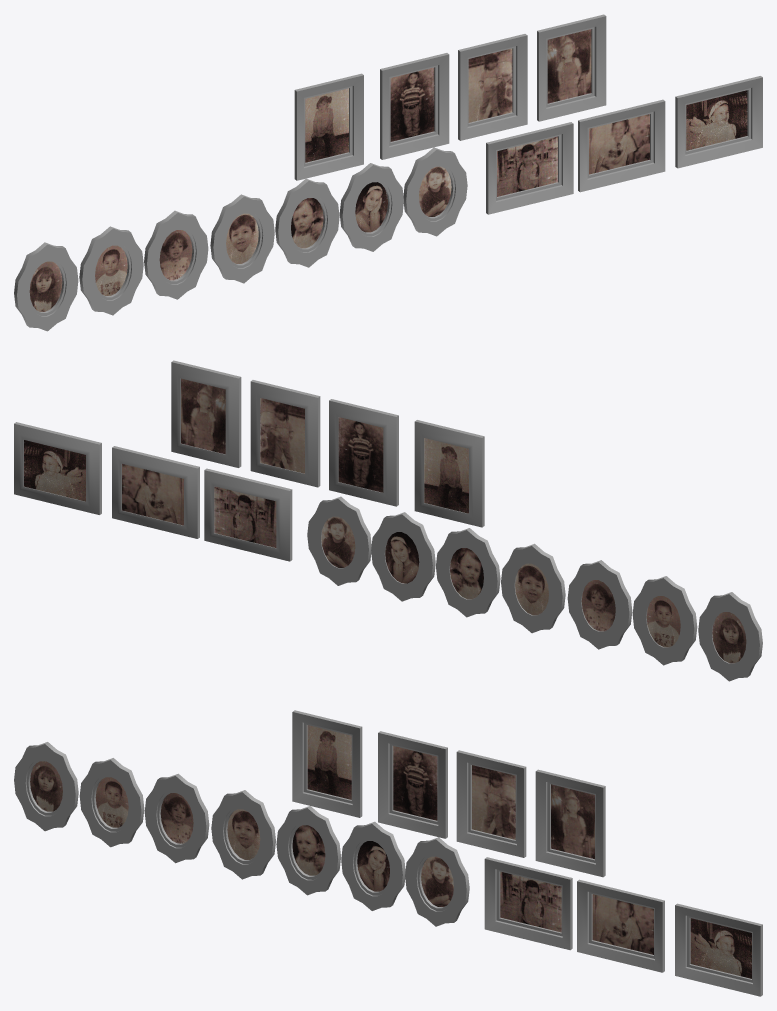
The model's file is Cuadros_Antiguos_001.fbx.
The picture shows the model from 3 angles, top to bottom: view 1: azimuth 30°, elevation 25°; view 2: azimuth 150°, elevation 25°; view 3: azimuth 330°, elevation 25°; orthographic projection.
Parts seen in each view (by area): view 1: Cuadro_Sergio, Cuadro_Polanco, Cuadro_Allison, Cuadro_Wilmer, Cuadro_Andres, Cuadro_Paola, Cuadro_Daniel, Cuadro_Instru, Cuadro_Camila, Cuadro_Maira, Cuadro_Rodrigo, Cuadro_Fabian (+2 smaller); view 2: Cuadro_Polanco, Cuadro_Sergio, Cuadro_Allison, Cuadro_Andres, Cuadro_Wilmer, Cuadro_Paola, Cuadro_Daniel, Cuadro_Johan, Cuadro_Fabian, Cuadro_Camila, Cuadro_Instru, Cuadro_Rodrigo (+2 smaller); view 3: Cuadro_Sergio, Cuadro_Polanco, Cuadro_Allison, Cuadro_Andres, Cuadro_Wilmer, Cuadro_Daniel, Cuadro_Paola, Cuadro_Fabian, Cuadro_Kathia, Cuadro_Instru, Cuadro_Maira, Cuadro_Rodrigo (+2 smaller).
Part boxes in pixels (x1,y1,x2,y2): Cuadro_Sergio: (537,14,606,121); Cuadro_Polanco: (458,34,527,140); Cuadro_Allison: (294,73,363,180); Cuadro_Wilmer: (380,53,449,159); Cuadro_Andres: (486,122,573,214); Cuadro_Paola: (578,99,665,192); Cuadro_Daniel: (675,76,762,168); Cuadro_Instru: (275,178,339,267); Cuadro_Camila: (339,163,403,251); Cuadro_Maira: (144,210,208,299); Cuadro_Rodrigo: (79,226,143,315); Cuadro_Fabian: (403,147,467,236); Cuadro_Polanco: (250,380,320,487); Cuadro_Sergio: (171,360,241,467); Cuadro_Allison: (414,420,484,527); Cuadro_Andres: (204,468,292,561); Cuadro_Wilmer: (329,399,398,506); Cuadro_Paola: (112,446,199,538); Cuadro_Daniel: (14,422,101,514); Cuadro_Johan: (501,543,565,633); Cuadro_Fabian: (307,496,371,585); Cuadro_Camila: (371,512,435,601); Cuadro_Instru: (436,528,500,617); Cuadro_Rodrigo: (632,576,697,665); Cuadro_Sergio: (535,769,605,877); Cuadro_Polanco: (456,750,526,857); Cuadro_Allison: (292,710,362,817); Cuadro_Andres: (484,857,572,950); Cuadro_Wilmer: (378,731,447,838); Cuadro_Daniel: (675,903,762,996); Cuadro_Paola: (577,879,664,972); Cuadro_Fabian: (405,837,469,926); Cuadro_Kathia: (14,742,78,831); Cuadro_Instru: (276,806,340,895); Cuadro_Maira: (144,773,209,863); Cuadro_Rodrigo: (79,758,144,847).
Bounding box in the file's own units: 7.89 × 1.83 × 0.08.
Materials: 4 (1 with a texture image).
